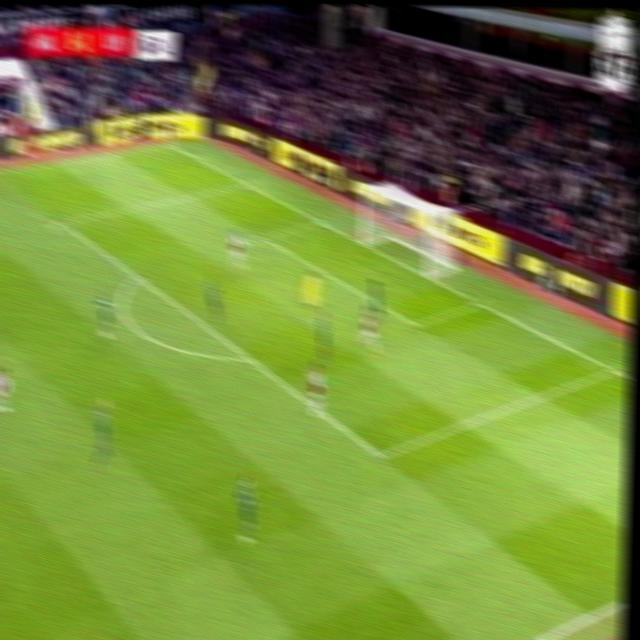bigarea_bottom_inner: (366, 440, 392, 469)
bigarea_bottom_outter: (602, 358, 623, 379)
bigarea_top_inner: (49, 210, 71, 233)
bigarea_top_outter: (237, 174, 256, 191)
bottom_arc_area_intersection: (237, 345, 258, 369)
corner: (156, 135, 178, 151)
smallarea_bottom_inner: (403, 310, 425, 334)
smallarea_bottom_outter: (467, 291, 490, 312)
smallarea_top_inner: (251, 225, 271, 247)
smallarea_top_outter: (309, 210, 330, 232)
top_arc_area_intersection: (126, 265, 146, 285)
